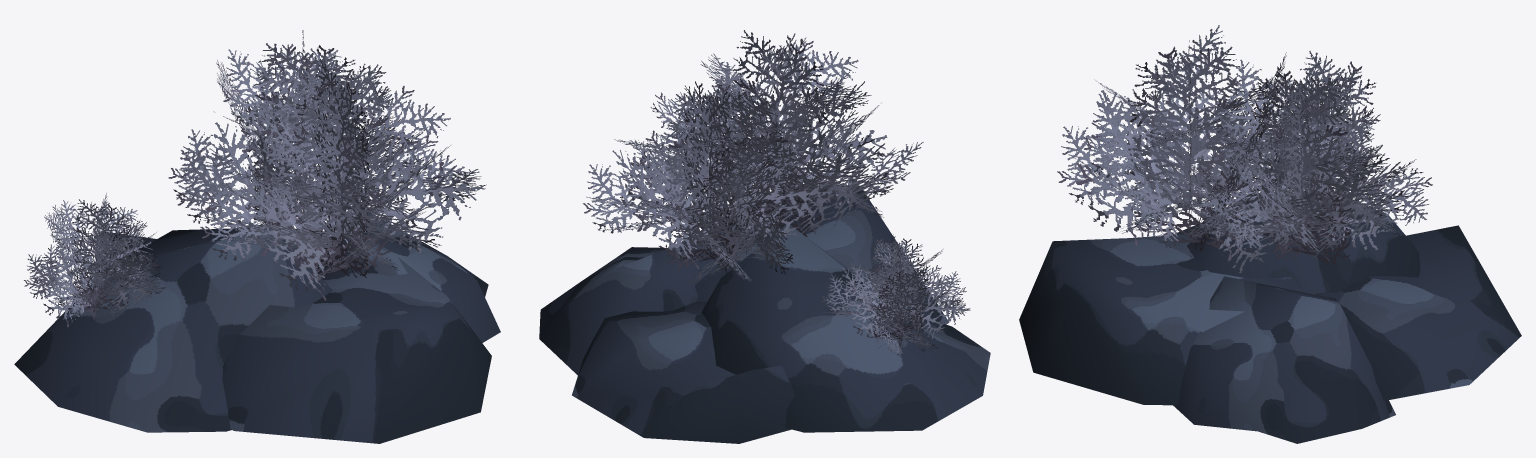
The model's file is Gorgonian Coral 2_preview_3DS_simplified.glb.
3 renders of one model, left to right at view 1: azimuth 30°, elevation 25°; view 2: azimuth 150°, elevation 25°; view 3: azimuth 270°, elevation 25°, orthographic. The views are drawn at different scales.
Visible parts, largest first — view 1: Marine Park Empire model; view 2: Marine Park Empire model; view 3: Marine Park Empire model.
Part boxes in pixels (x1,y1,x2,y2): Marine Park Empire model: [14, 30, 500, 443]; Marine Park Empire model: [539, 30, 990, 443]; Marine Park Empire model: [1019, 25, 1521, 443].
Size of the model in its own units: 71.51 by 47.69 by 67.38.
2 materials, 2 textured.
